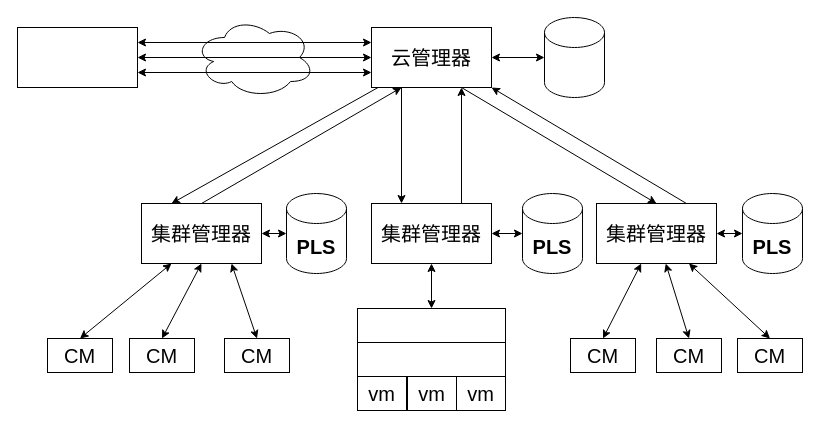
This 820x428 diagram has some shape labels left out. The shapes that lost their labels are listed below. From the top down, each one's box as (x1, y1, x2, y2) in pixels, then its label:
(16, 26, 138, 88): 用户
(544, 16, 604, 98): DOS
(356, 308, 506, 342): 计算机管理器
(356, 342, 506, 376): 虚拟机软件
